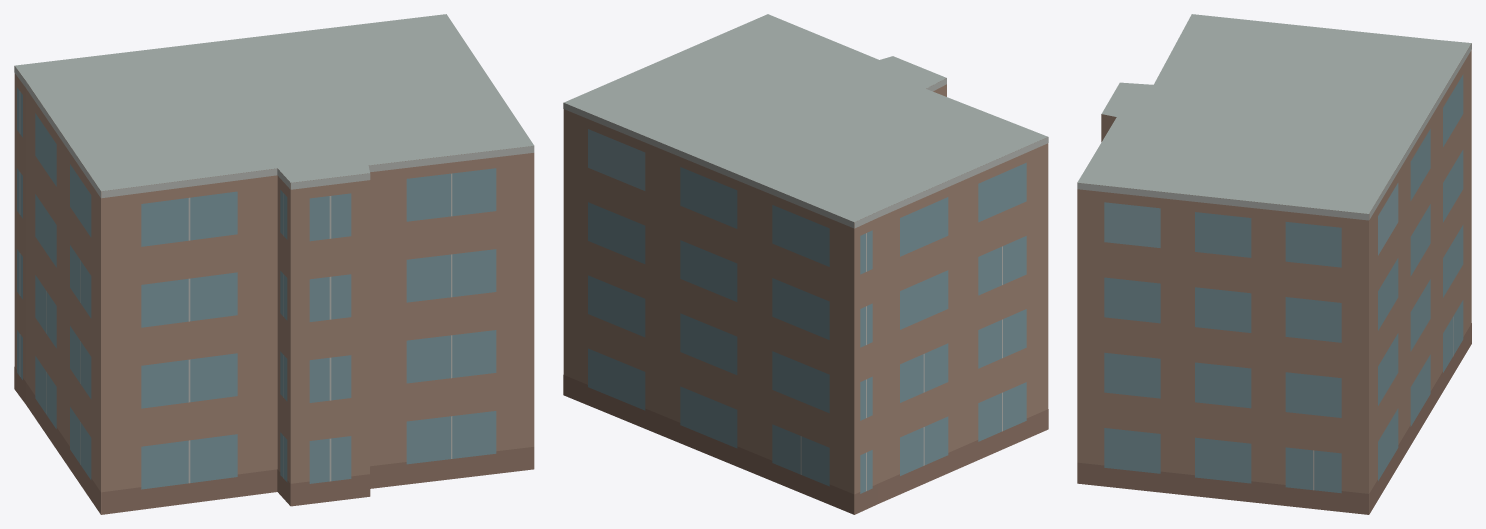
File: survey-upis-32589020.glb
The picture shows the model from 3 angles, left to right: view 1: azimuth 30°, elevation 25°; view 2: azimuth 150°, elevation 25°; view 3: azimuth 270°, elevation 25°; orthographic projection. The views are drawn at different scales.
Parts seen in each view (by area): view 1: survey-upis-32589020.tmp; view 2: survey-upis-32589020.tmp; view 3: survey-upis-32589020.tmp.
Boxes of the visible parts, x1,y1,x2,y2 form: survey-upis-32589020.tmp: [14, 14, 534, 514]; survey-upis-32589020.tmp: [563, 14, 1048, 514]; survey-upis-32589020.tmp: [1077, 14, 1471, 514].
Size of the model in its own units: 16.12 by 11.3 by 13.44.
